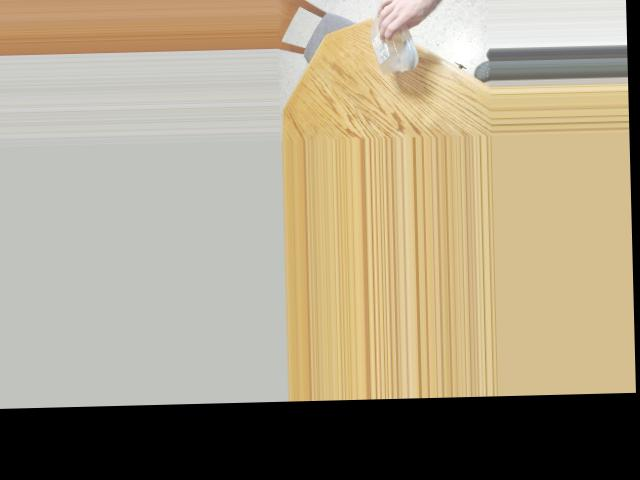cheese: (371, 0, 419, 54)
